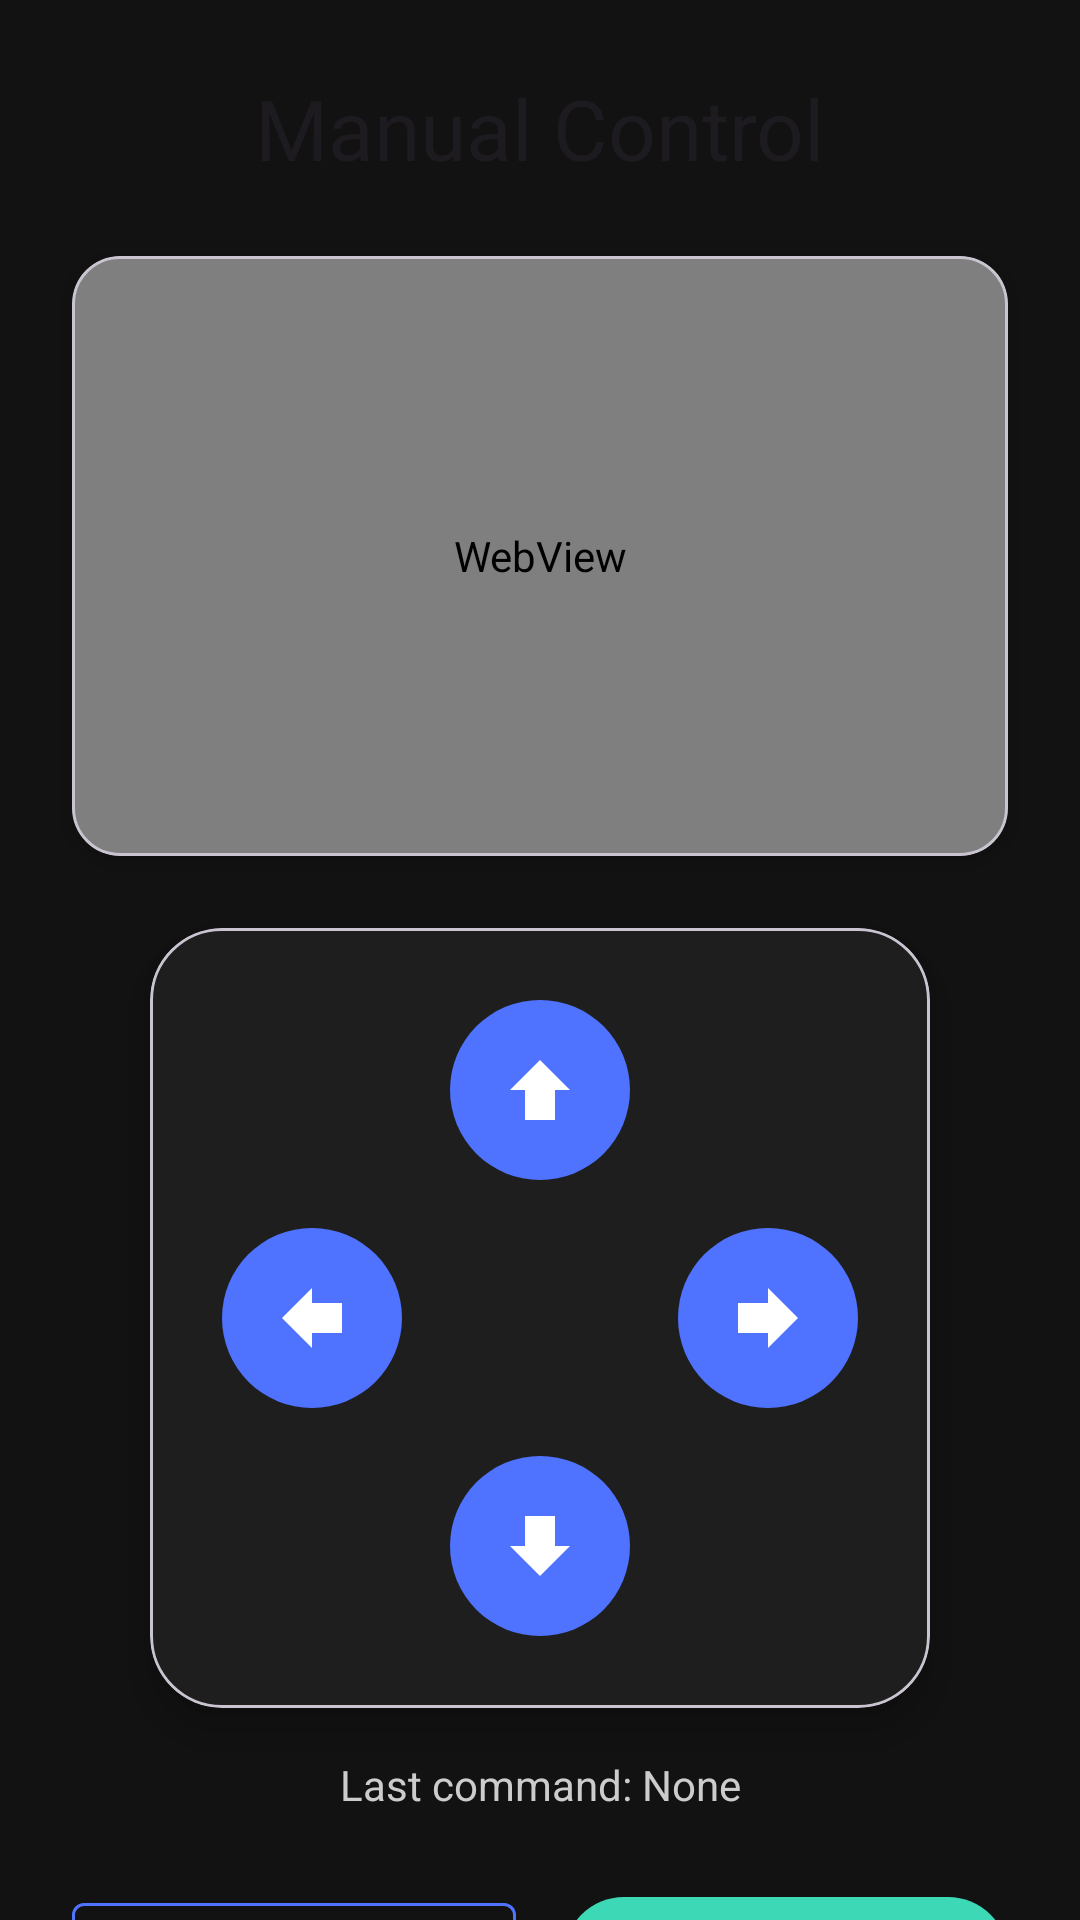

Point at icon controls on the screen. Image size 1080px×1920px, points as (x=x, y=y).
arrow down: (x=540, y=1546)
arrow left: (x=312, y=1318)
arrow right: (x=768, y=1318)
arrow up: (x=540, y=1090)
